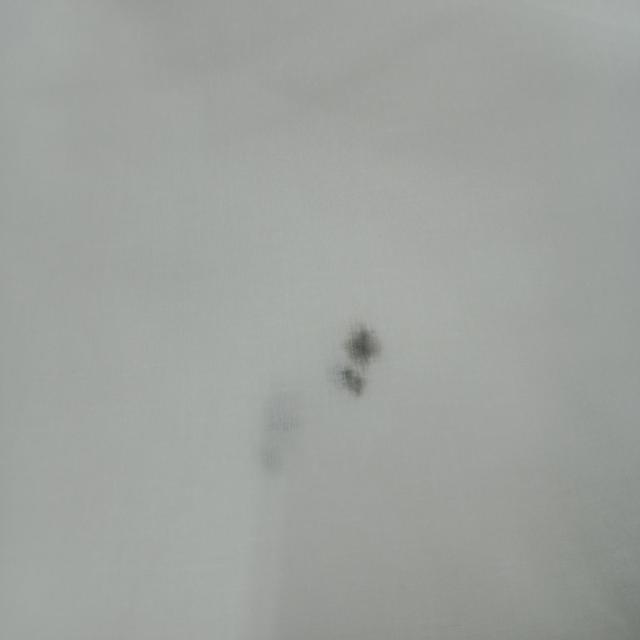stain: (331, 318, 386, 402), (252, 391, 302, 478)
